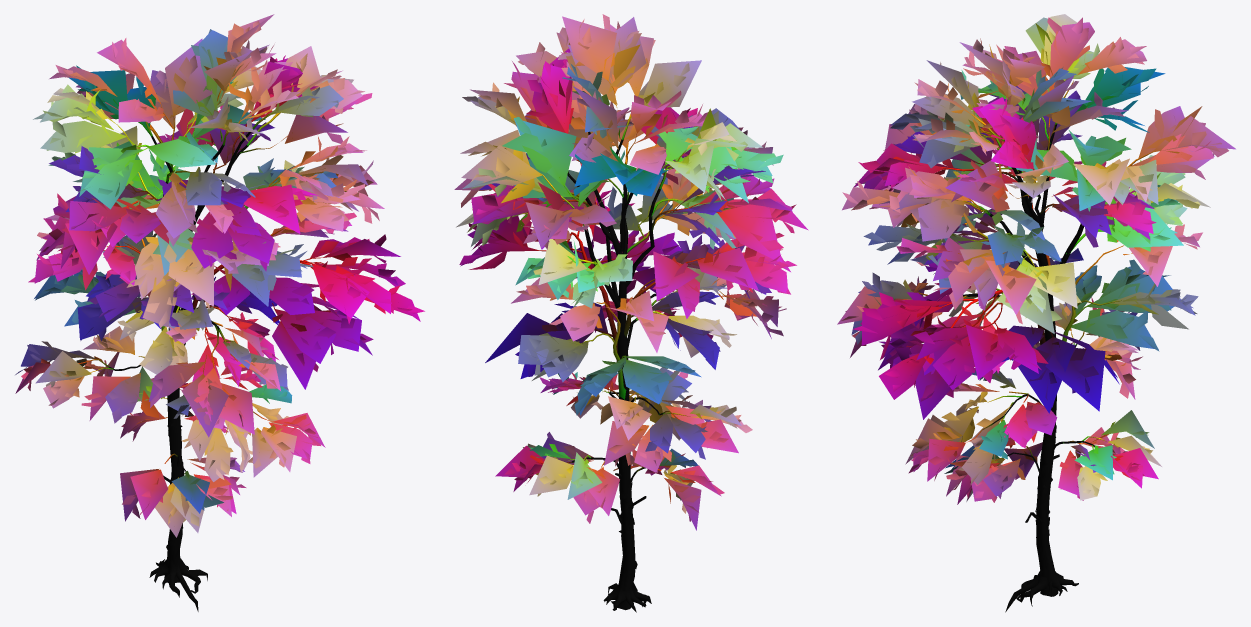
Rendered from SM_EuropeanBeech_L_02.fbx.
The picture shows the model from 3 angles, left to right: view 1: azimuth 30°, elevation 25°; view 2: azimuth 150°, elevation 25°; view 3: azimuth 270°, elevation 25°; orthographic projection. The views are drawn at different scales.
Visible parts, largest first — view 1: SM_EuropeanBeech_L_02_LOD0; view 2: SM_EuropeanBeech_L_02_LOD0; view 3: SM_EuropeanBeech_L_02_LOD0.
Boxes of the visible parts, box(x1,y1,x2,y2) form: SM_EuropeanBeech_L_02_LOD0: box(15, 14, 424, 611); SM_EuropeanBeech_L_02_LOD0: box(454, 14, 808, 612); SM_EuropeanBeech_L_02_LOD0: box(837, 14, 1235, 612).
Size of the model in its own units: 851 by 819 by 1343.
